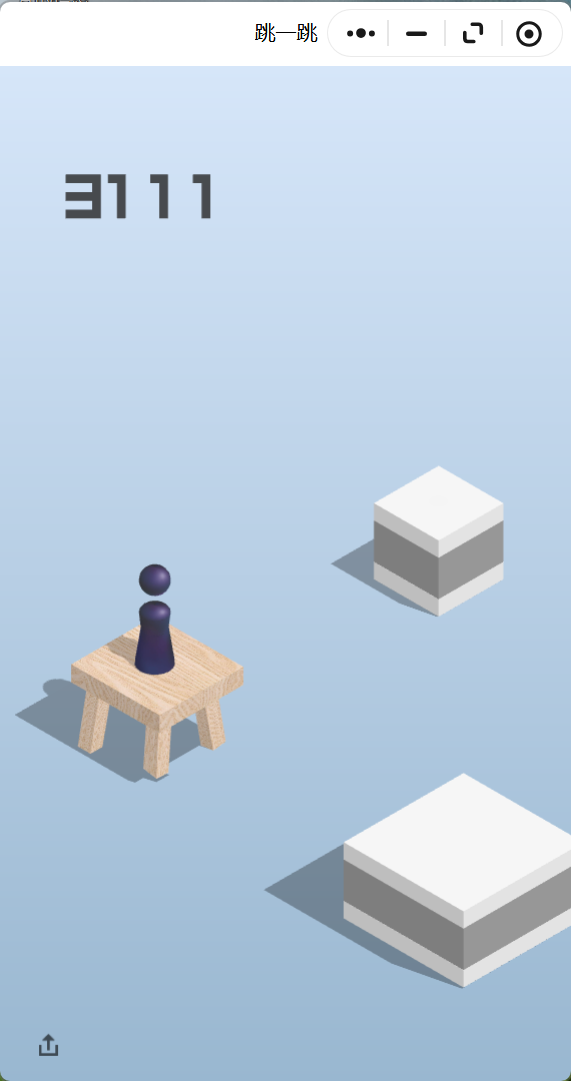piece: (139, 564, 170, 670)
target: (373, 465, 504, 540)
